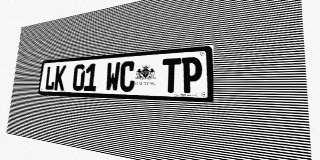0: (72, 64, 86, 91)
1: (84, 63, 98, 91)
C: (119, 61, 136, 92)
K: (54, 65, 66, 90)
L: (44, 66, 56, 90)
P: (181, 56, 202, 93)
T: (161, 58, 181, 93)
W: (105, 62, 120, 92)
